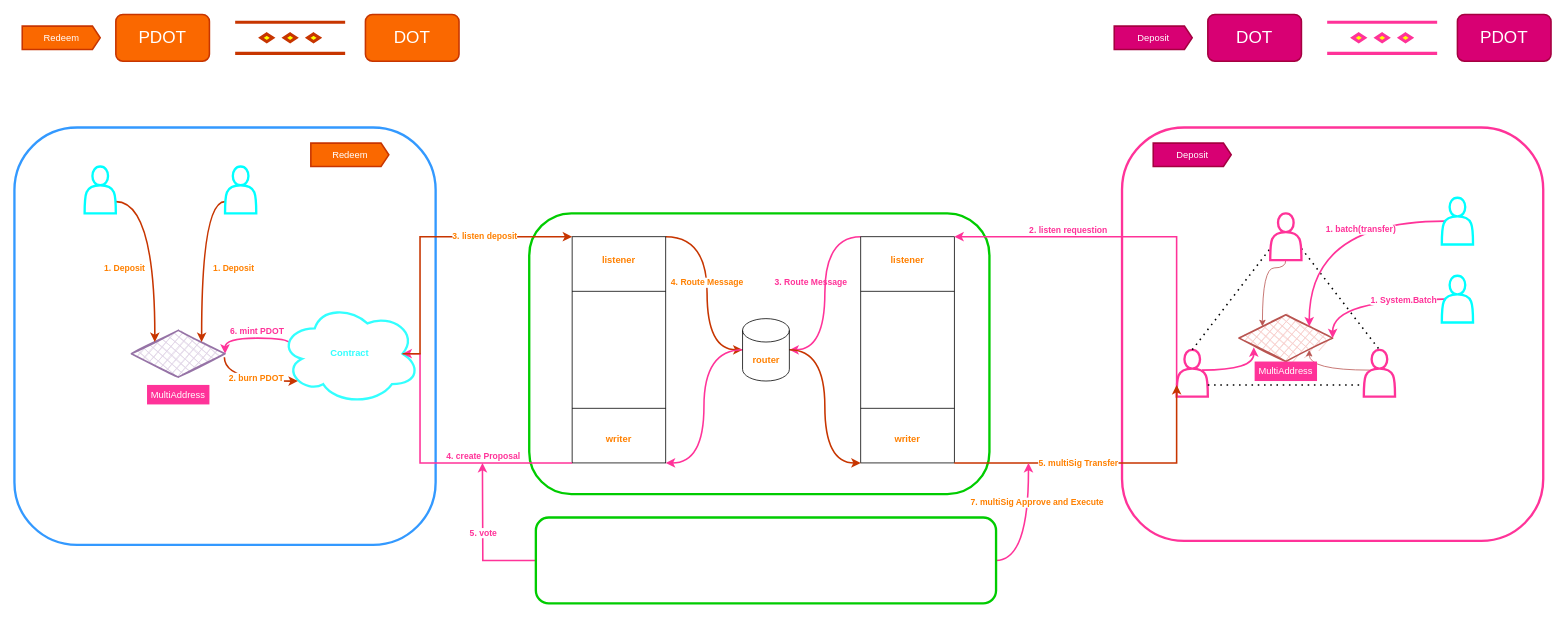
The diagram is 1565 pixels wide and 618 high, and some of its shapes have lost their labels. Here are the shapes that lost their labels. From the top down, the centre of each, then its label:
point 618,349: alaya
point 907,349: kusama
point 765,560: Other Relayer
